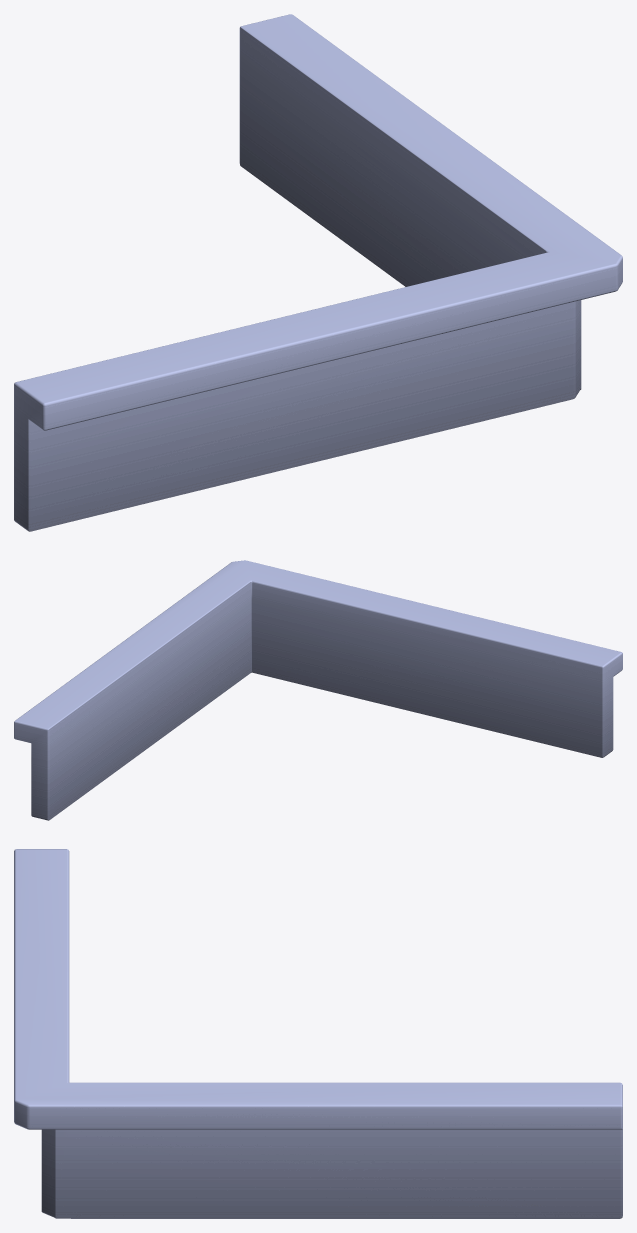
Rendered from border-high-corner.glb.
3 renders of one model, top to bottom at view 1: azimuth 30°, elevation 25°; view 2: azimuth 150°, elevation 25°; view 3: azimuth 270°, elevation 25°, orthographic. The views are drawn at different scales.
Visible parts, largest first — view 1: border-high-corner; view 2: border-high-corner; view 3: border-high-corner.
Boxes of the visible parts, bbox=[...] form: border-high-corner: bbox=[14, 14, 622, 531]; border-high-corner: bbox=[14, 560, 622, 820]; border-high-corner: bbox=[14, 849, 622, 1218].
Size of the model in its own units: 2.2 by 0.5 by 2.2.
1 material, 1 textured.
